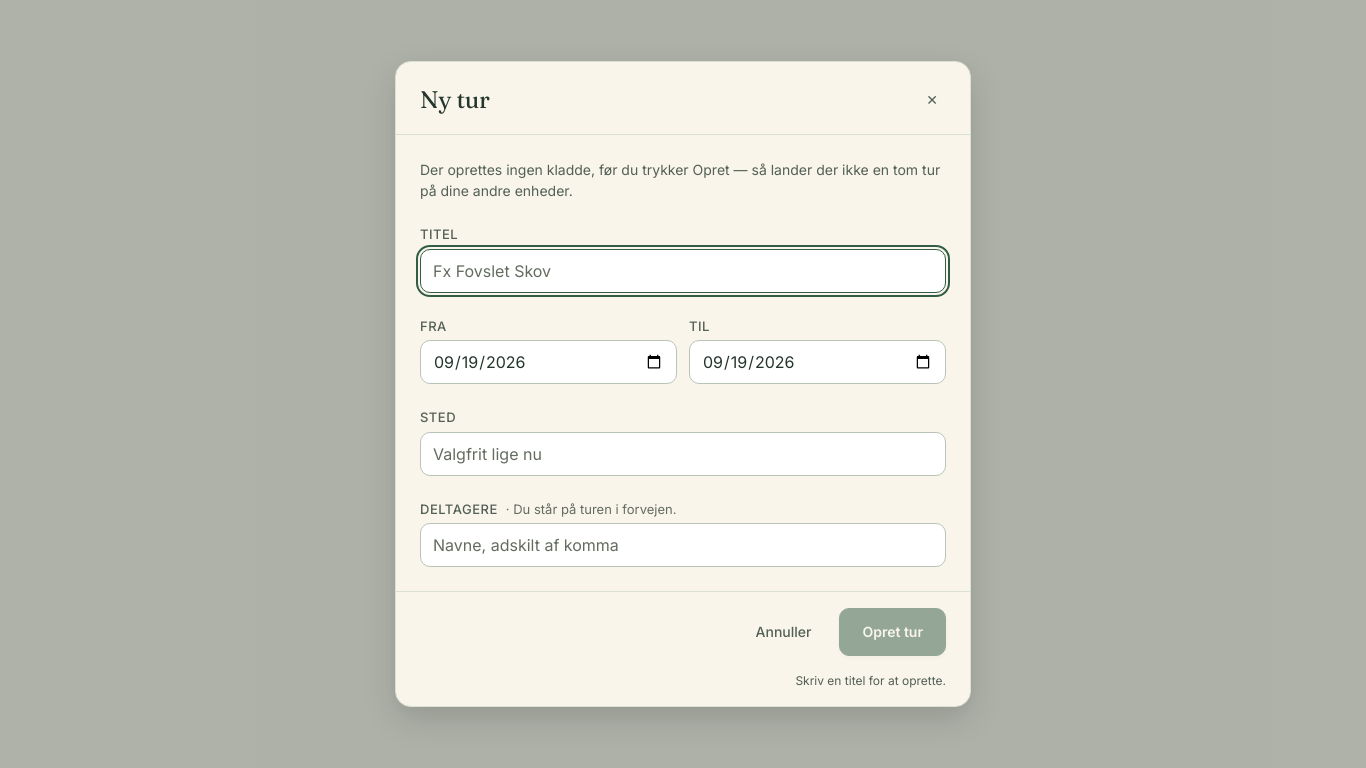
Test: Opret er slået fra, indtil navnet er gyldigt › bliver aktiv, når der står noget i titlen
The width and height of the screenshot is (1366, 768).
Type "Fovslet" into the field labelled "Titel".
click(683, 270); type("Fovslet")  # box [420,248,946,292]
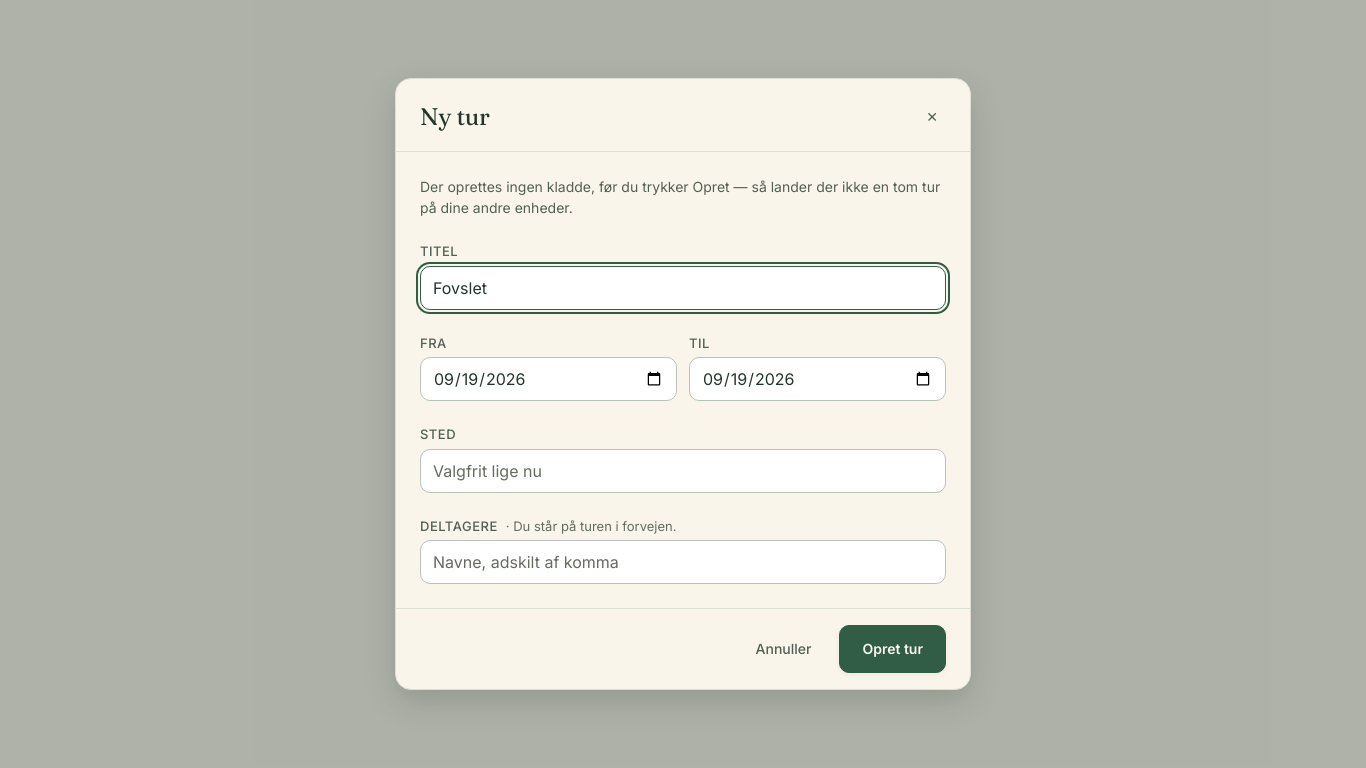
expect the button "Opret tur" is enabled: met, box [839,625,946,673]
